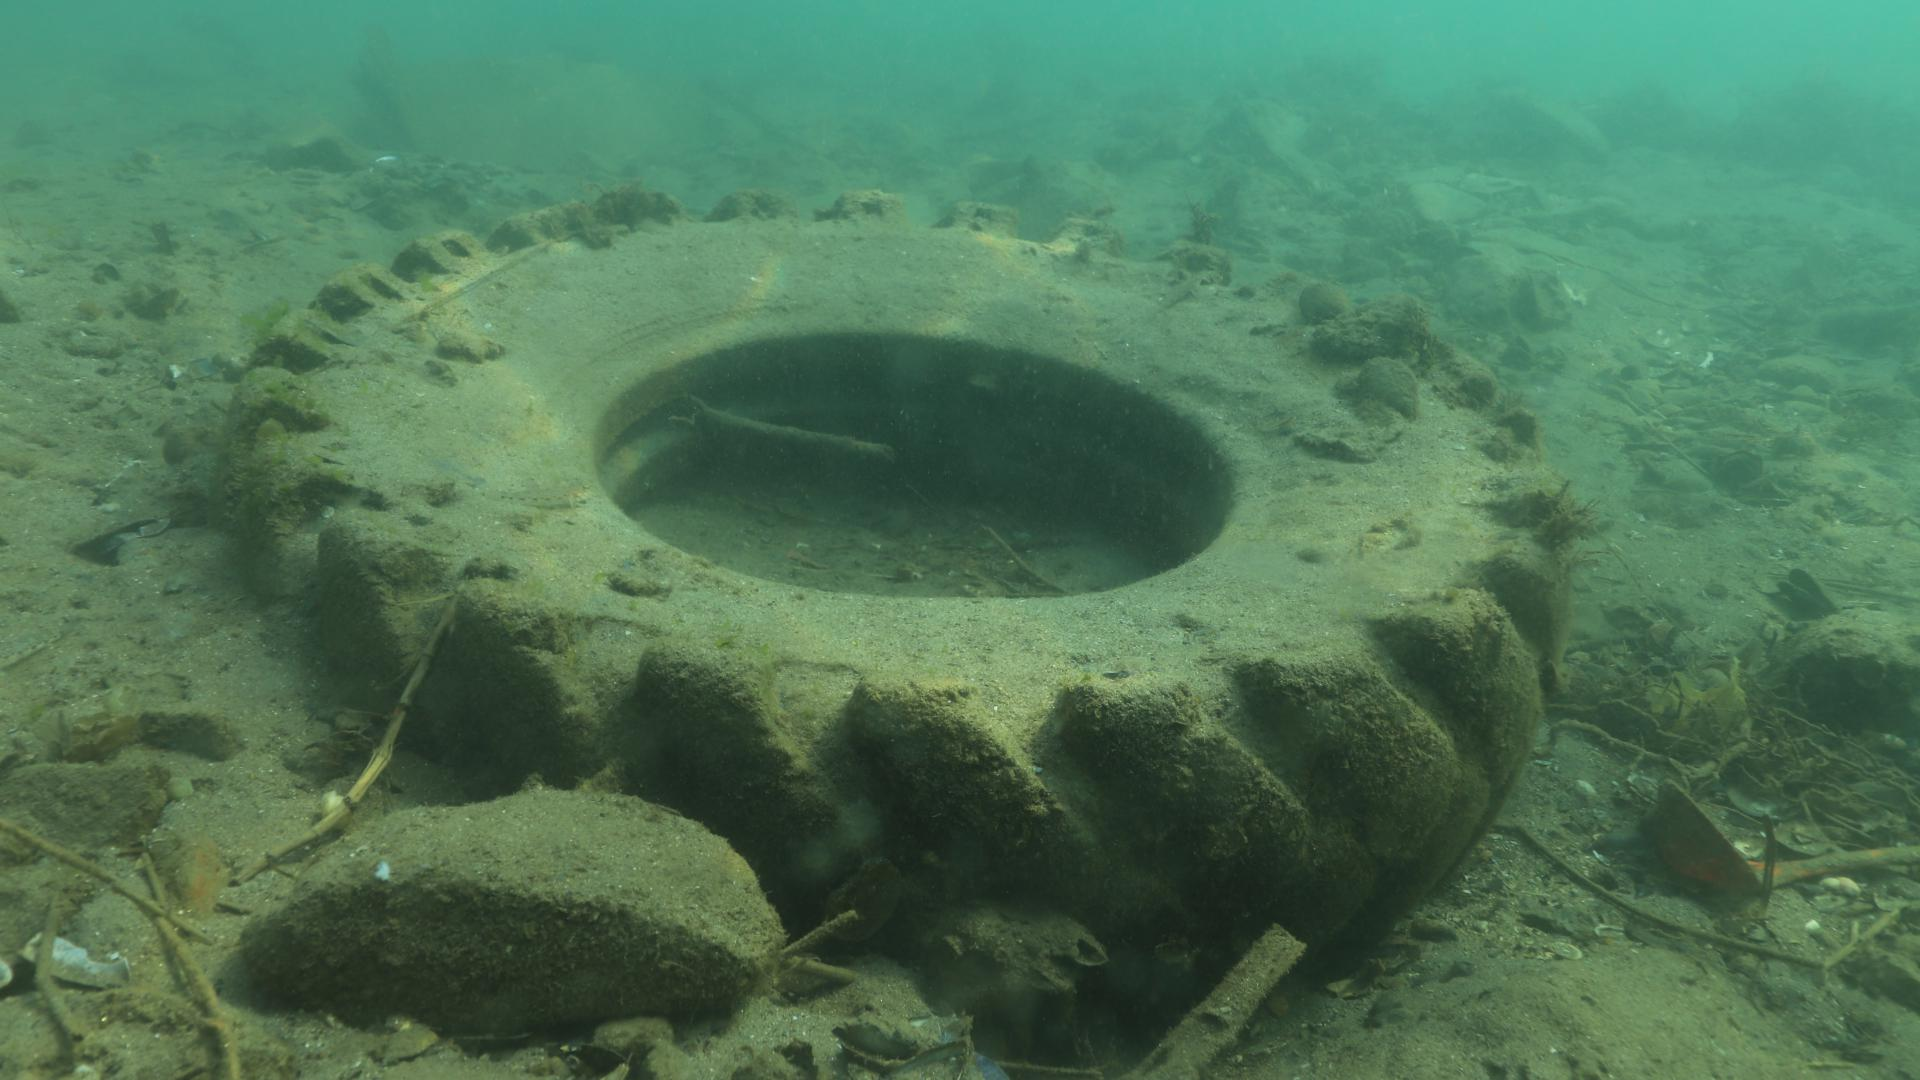tire: (228, 189, 1573, 1006)
